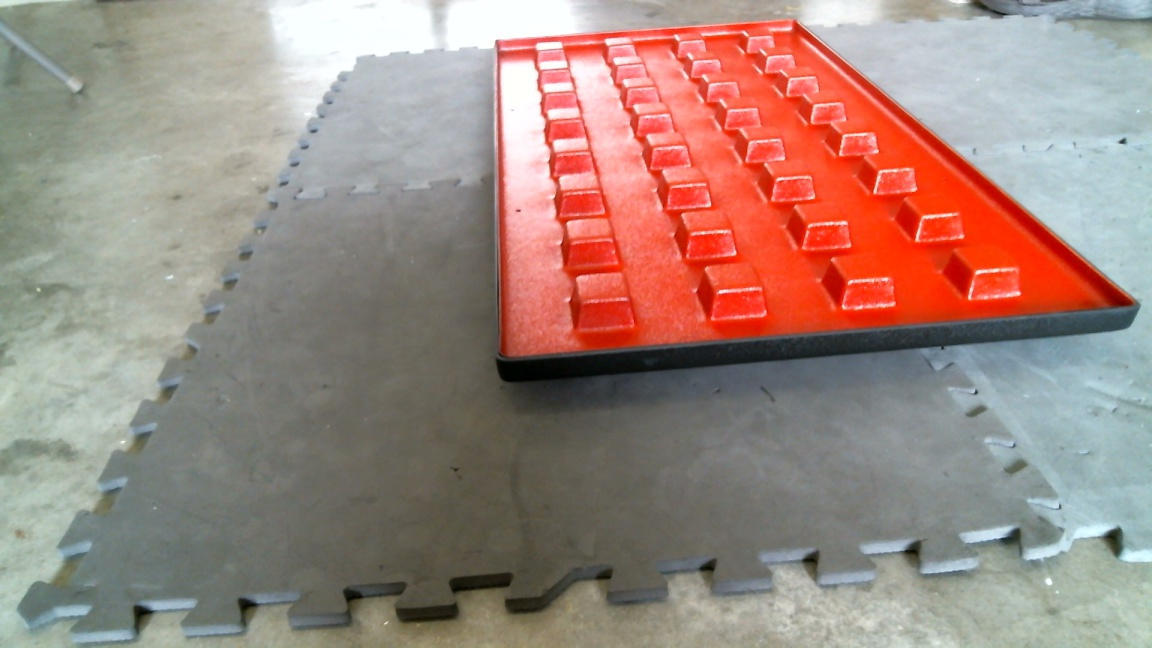red_foundation: (494, 18, 1139, 381)
